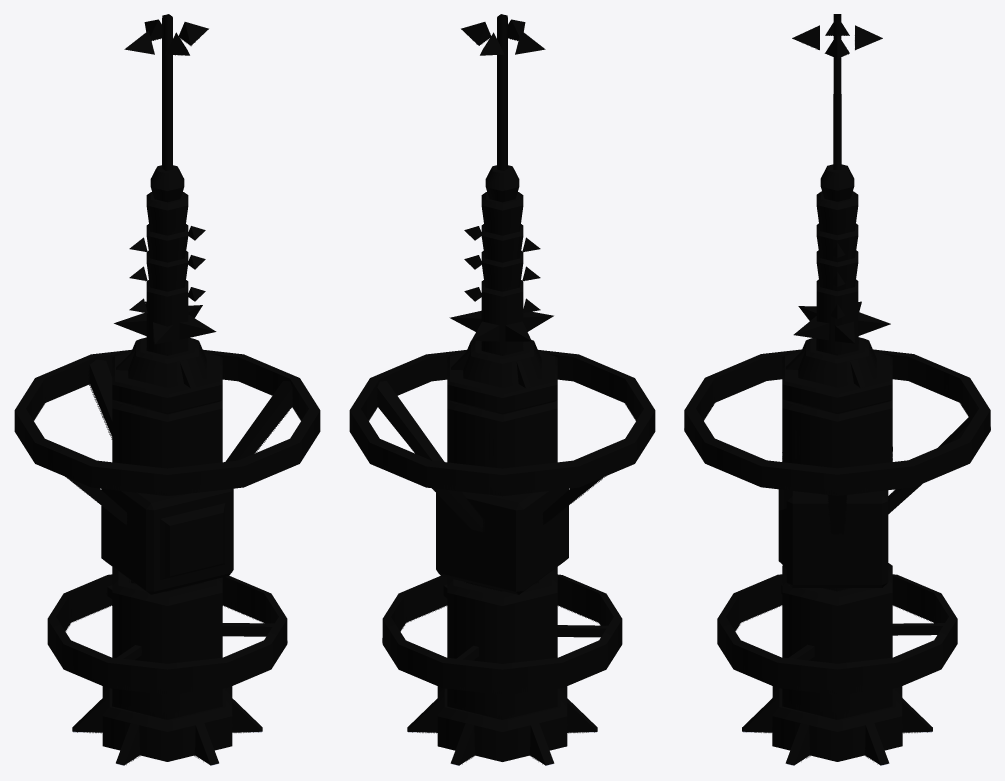
Rendered from SciFi_Machine.glb.
3 renders of one model, left to right at view 1: azimuth 30°, elevation 25°; view 2: azimuth 150°, elevation 25°; view 3: azimuth 270°, elevation 25°, orthographic.
Parts seen in each view (by area): view 1: SciFi_Machine; view 2: SciFi_Machine; view 3: SciFi_Machine.
Boxes of the visible parts, x1,y1,x2,y2 form: SciFi_Machine: (14, 14, 320, 765); SciFi_Machine: (349, 14, 655, 765); SciFi_Machine: (684, 14, 990, 765).
Bounding box in the file's own units: 2.18 × 5.6 × 2.18.
Materials: 3 (2 with a texture image).
